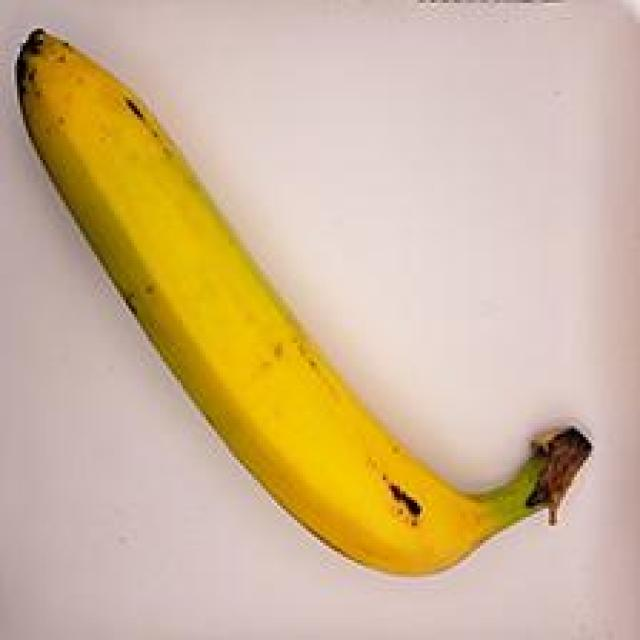ripe: (1, 18, 599, 570)
